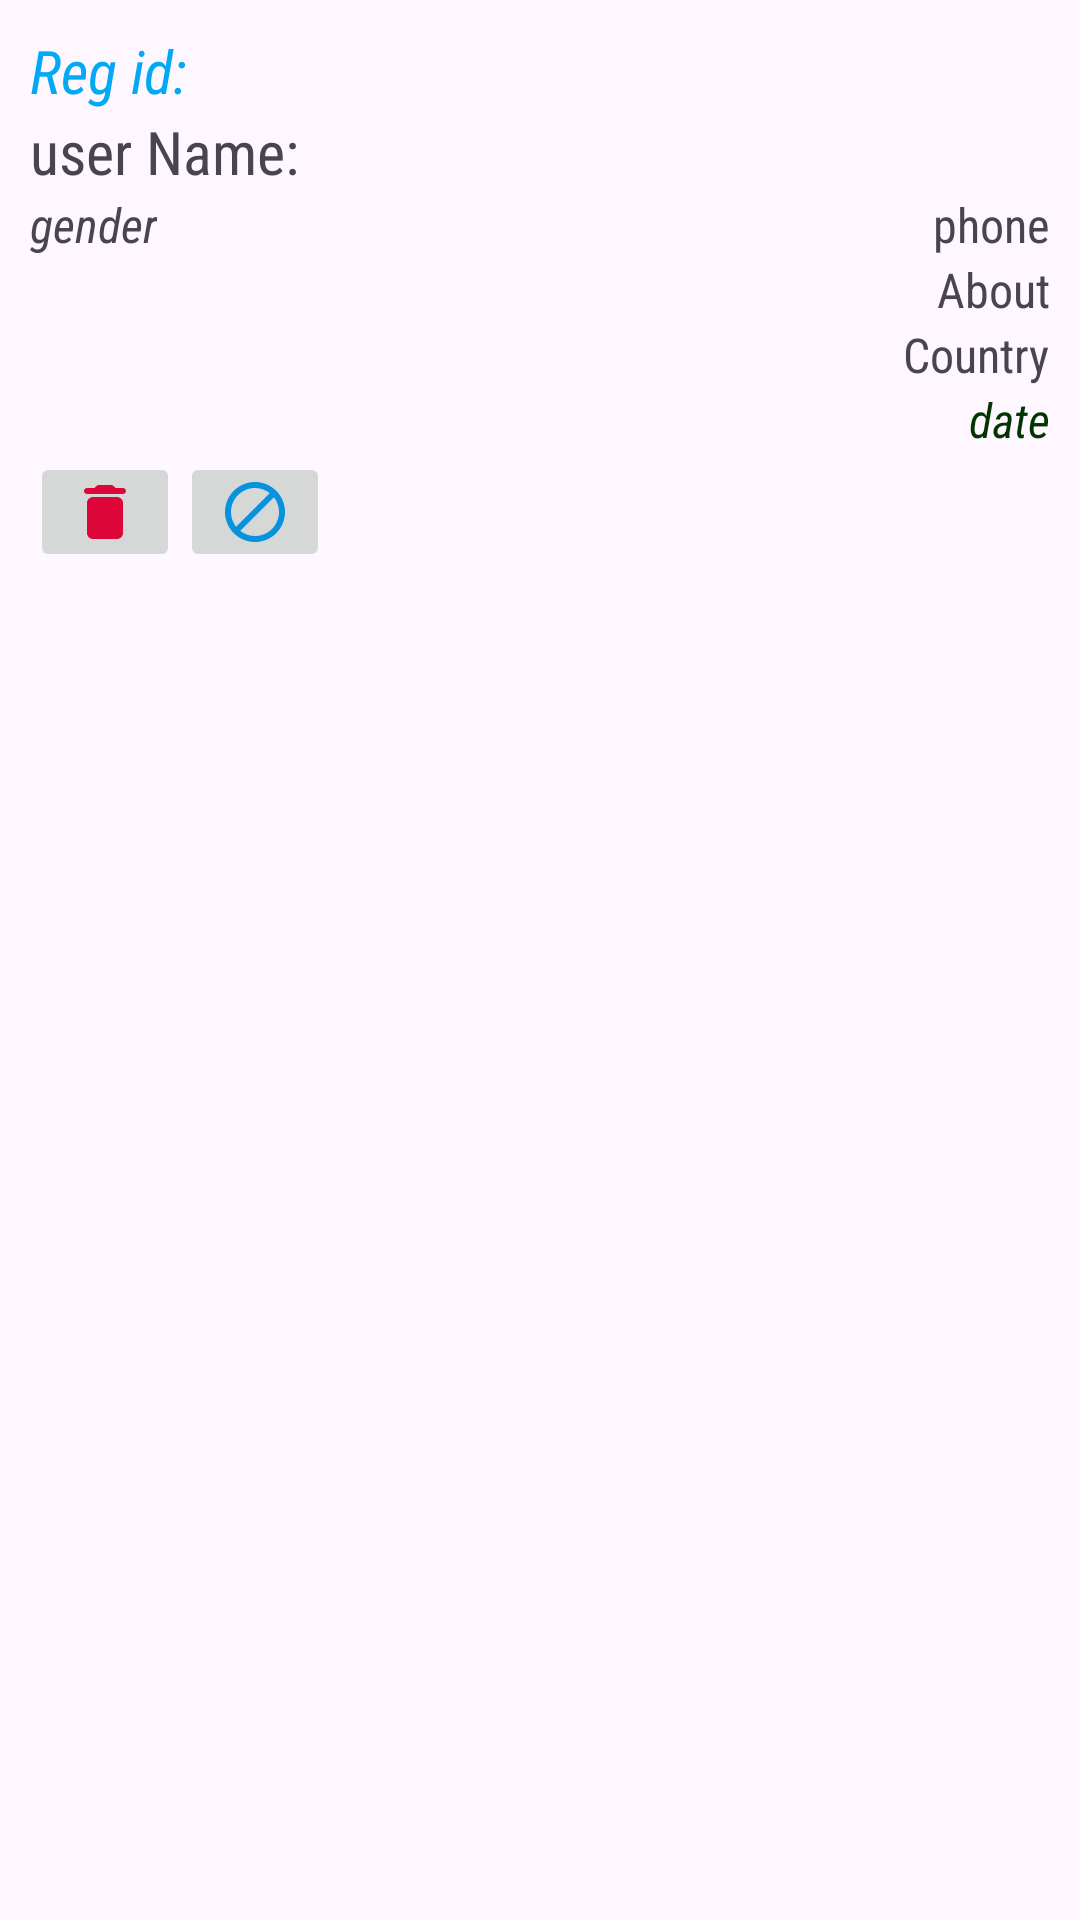

Where icons sit on this 1080*1920 app screen, as (x1, y1, x2, y2):
block: (192, 470, 318, 554)
delete: (42, 470, 168, 554)
